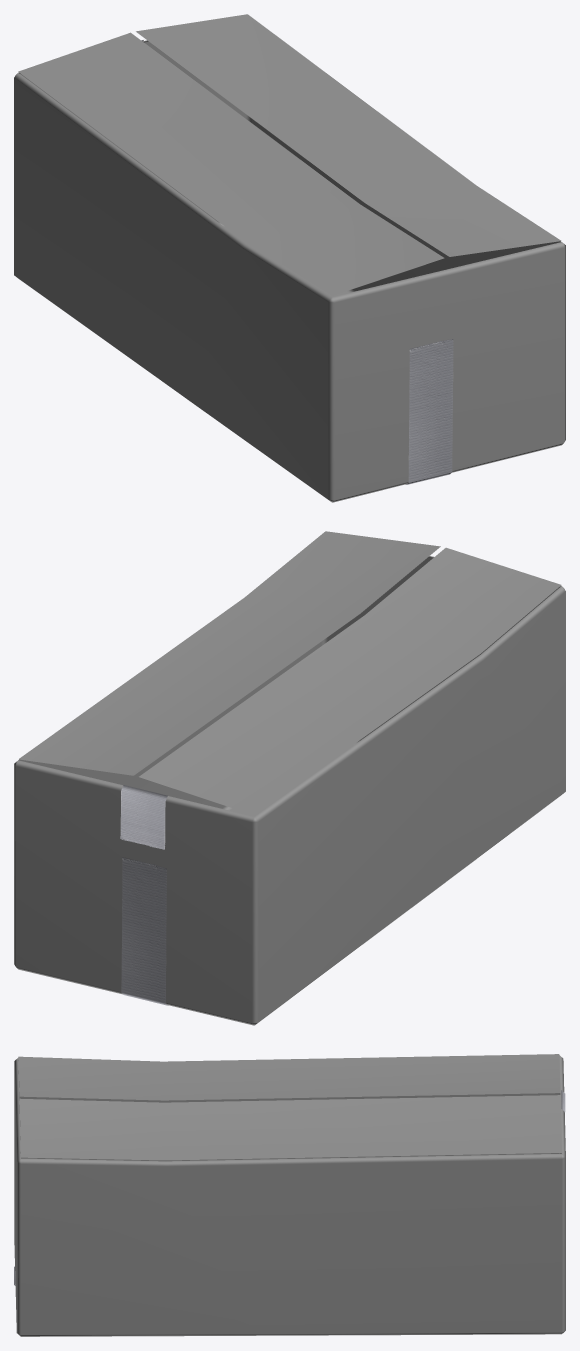
File: SeanElston_Box_01.fbx
3 renders of one model, top to bottom at view 1: azimuth 30°, elevation 25°; view 2: azimuth 150°, elevation 25°; view 3: azimuth 270°, elevation 25°, orthographic. The views are drawn at different scales.
Visible parts, largest first — view 1: Box115; view 2: Box115; view 3: Box115.
Boxes of the visible parts, <box> form: Box115: <box>14,14,565,502</box>; Box115: <box>14,531,565,1025</box>; Box115: <box>14,1054,565,1336</box>.
Bounding box in the file's own units: 37.99 × 32.27 × 84.46.
2 materials, 1 textured.
